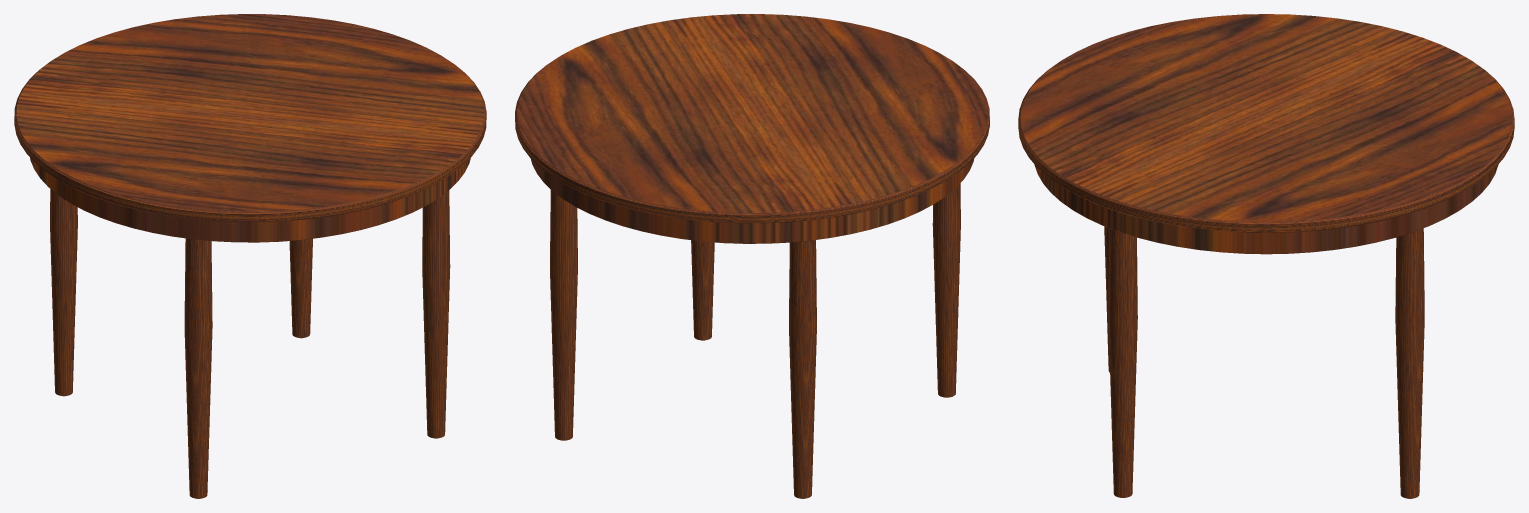
File: RoundTable.fbx
3 views of the same model, side by side, from view 1: azimuth 30°, elevation 25°; view 2: azimuth 150°, elevation 25°; view 3: azimuth 270°, elevation 25° (orthographic). The views are drawn at different scales.
Parts seen in each view (by area): view 1: Spindle001, Cylinder004, Cylinder005, Cylinder003, Cylinder002; view 2: Spindle001, Cylinder003, Cylinder002, Cylinder004, Cylinder005; view 3: Spindle001, Cylinder002, Cylinder005.
Part boxes in pixels (x1,y1,x2,y2): Spindle001: [14, 14, 486, 242]; Cylinder004: [184, 238, 212, 498]; Cylinder005: [422, 190, 450, 438]; Cylinder003: [50, 189, 77, 396]; Cylinder002: [289, 238, 312, 338]; Spindle001: [515, 14, 989, 243]; Cylinder003: [789, 240, 816, 498]; Cylinder002: [550, 190, 577, 440]; Cylinder004: [932, 183, 960, 397]; Cylinder005: [691, 240, 714, 340]; Spindle001: [1018, 14, 1514, 254]; Cylinder002: [1395, 228, 1424, 498]; Cylinder005: [1108, 228, 1137, 497].
Bounding box in the file's own units: 536 × 379 × 536.
